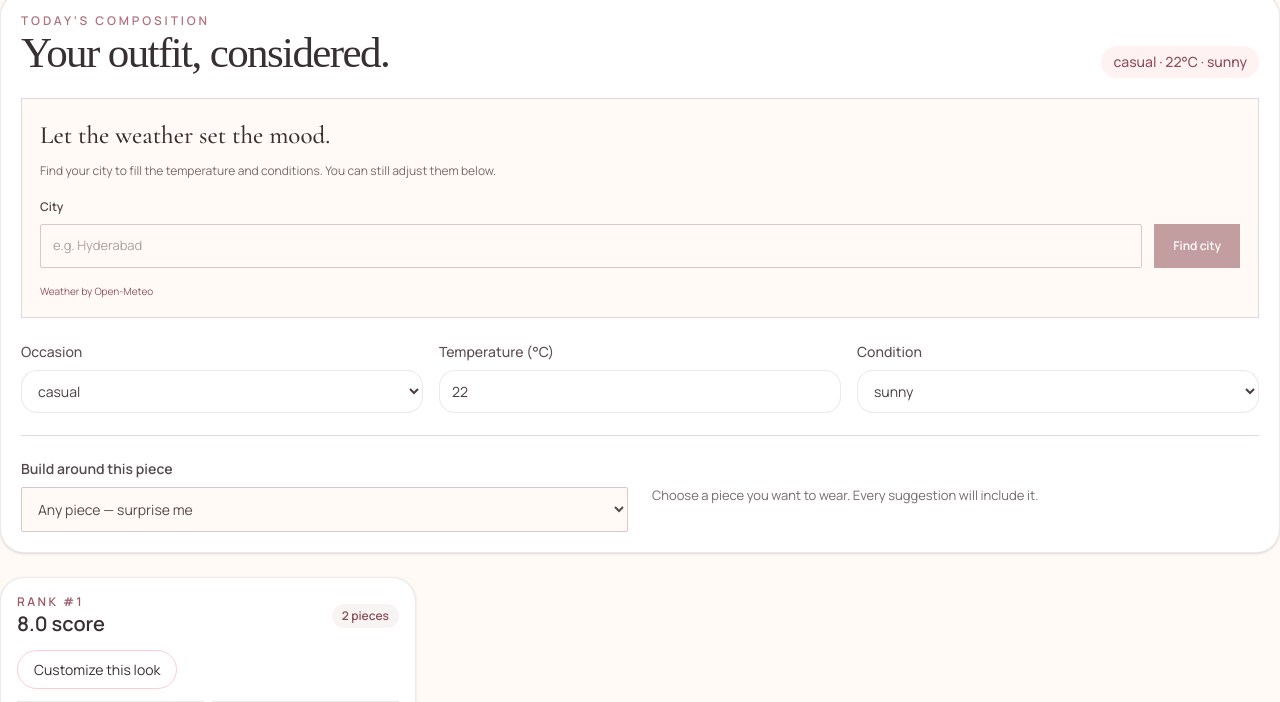
Scenario: Outfit Planner › ignores an older response even when abort does not stop it
Select "formal" in the dropdown labelled "Occasion". click: point(222, 391)
box: [21,370,423,413]
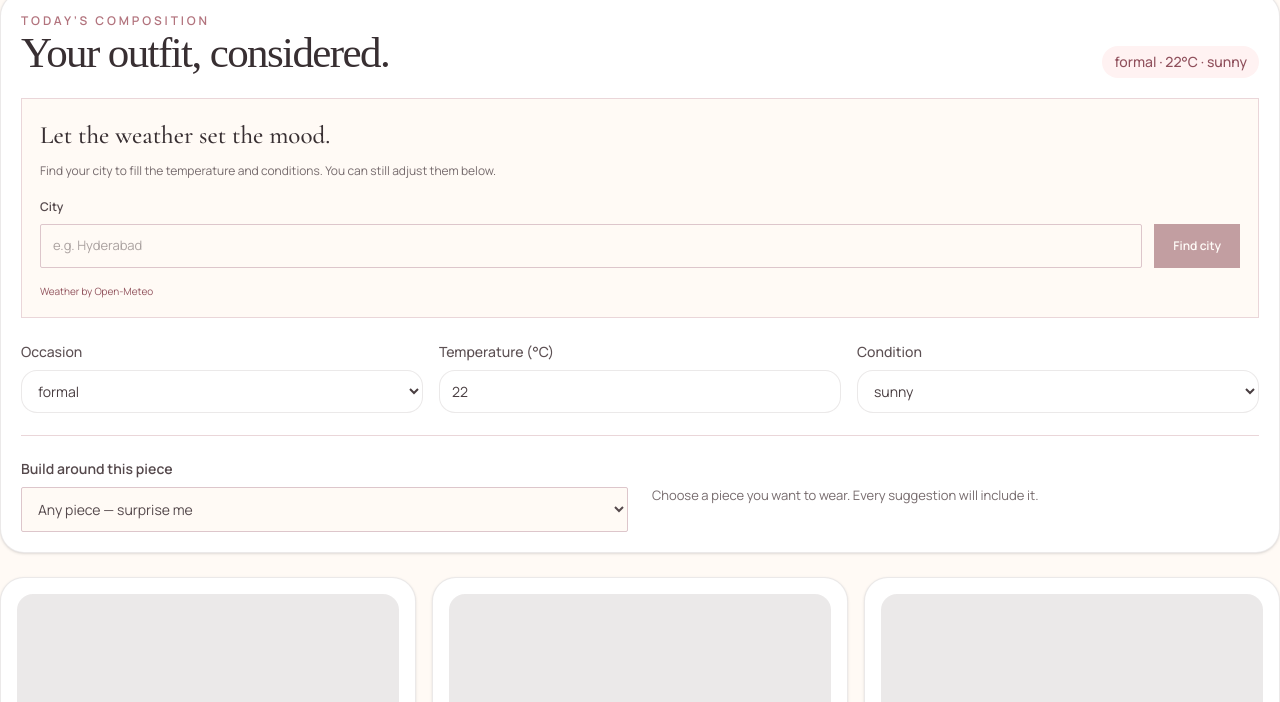
Select "gym" in the dropdown labelled "Occasion". click: point(222, 391)
box: [21,370,423,413]
(page scrolled)
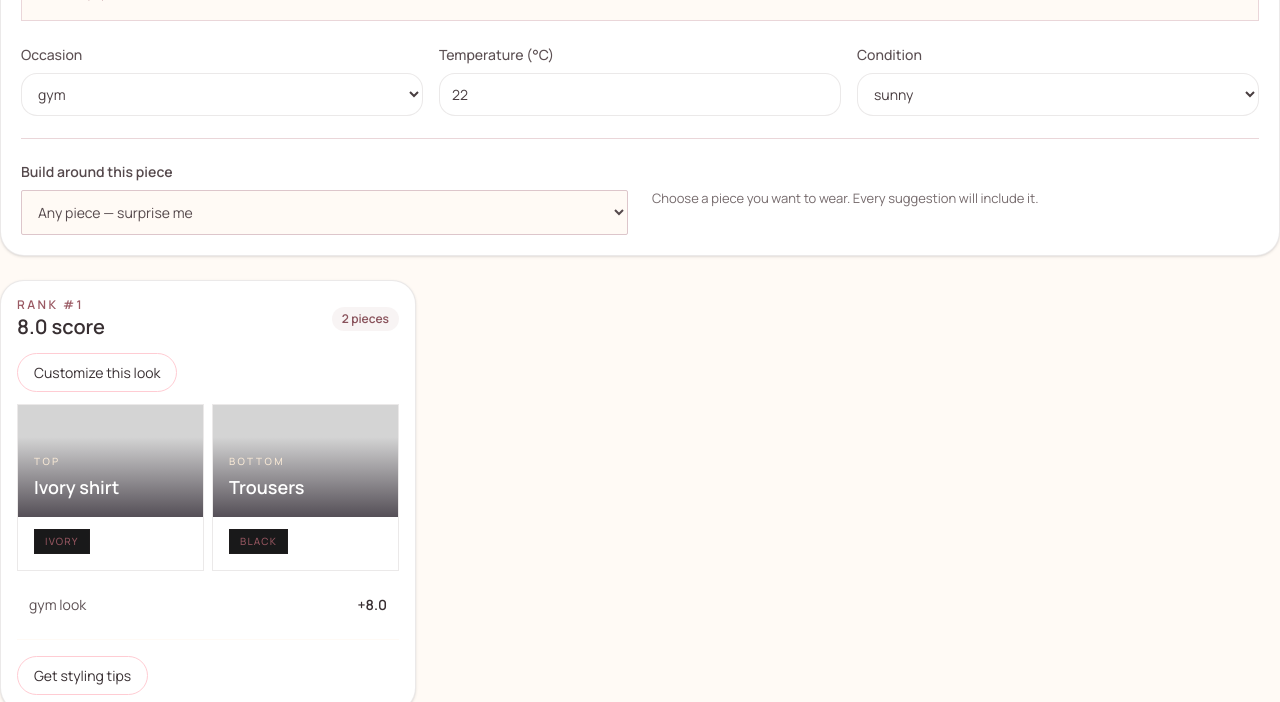
Now the text "gym look" is shown, box [29,595,86,615]
